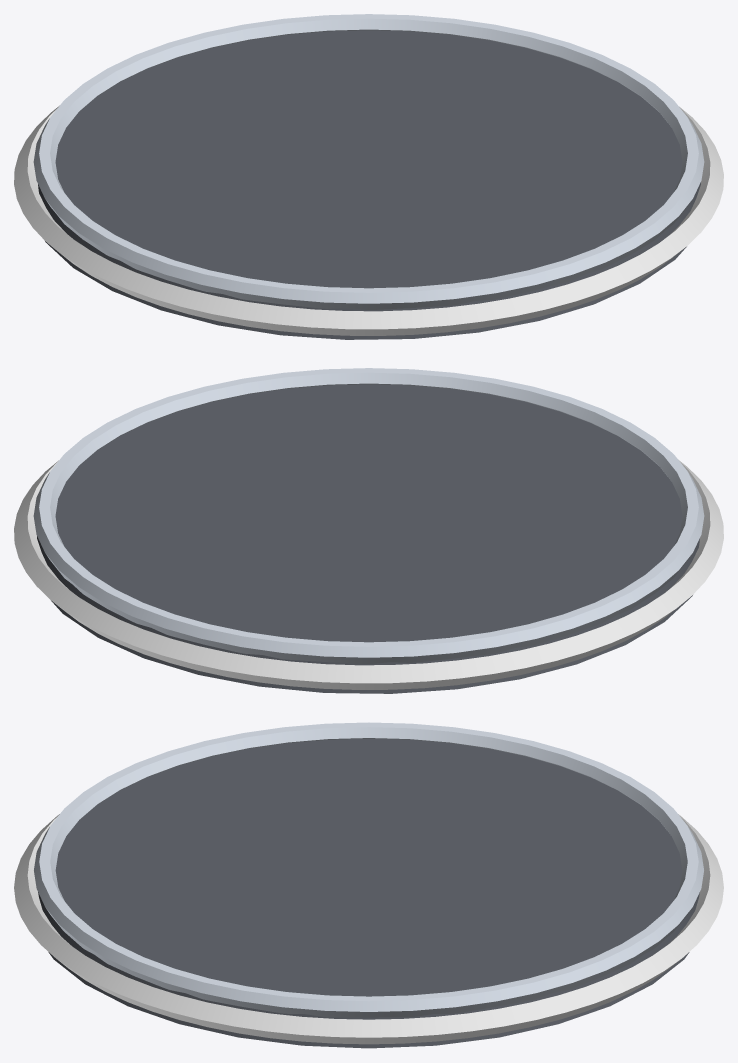
3 views of the same model, one above another, from view 1: azimuth 30°, elevation 25°; view 2: azimuth 150°, elevation 25°; view 3: azimuth 270°, elevation 25° (orthographic).
Visible parts, largest first — view 1: base_s2; view 2: base_s2; view 3: base_s2.
Boxes of the visible parts, x1,y1,x2,y2 form: base_s2: (14,14,723,339); base_s2: (14,368,723,693); base_s2: (14,722,723,1048).
Size of the model in its own units: 1.56 by 0.1028 by 1.56.
Materials: 2 (1 with a texture image).
